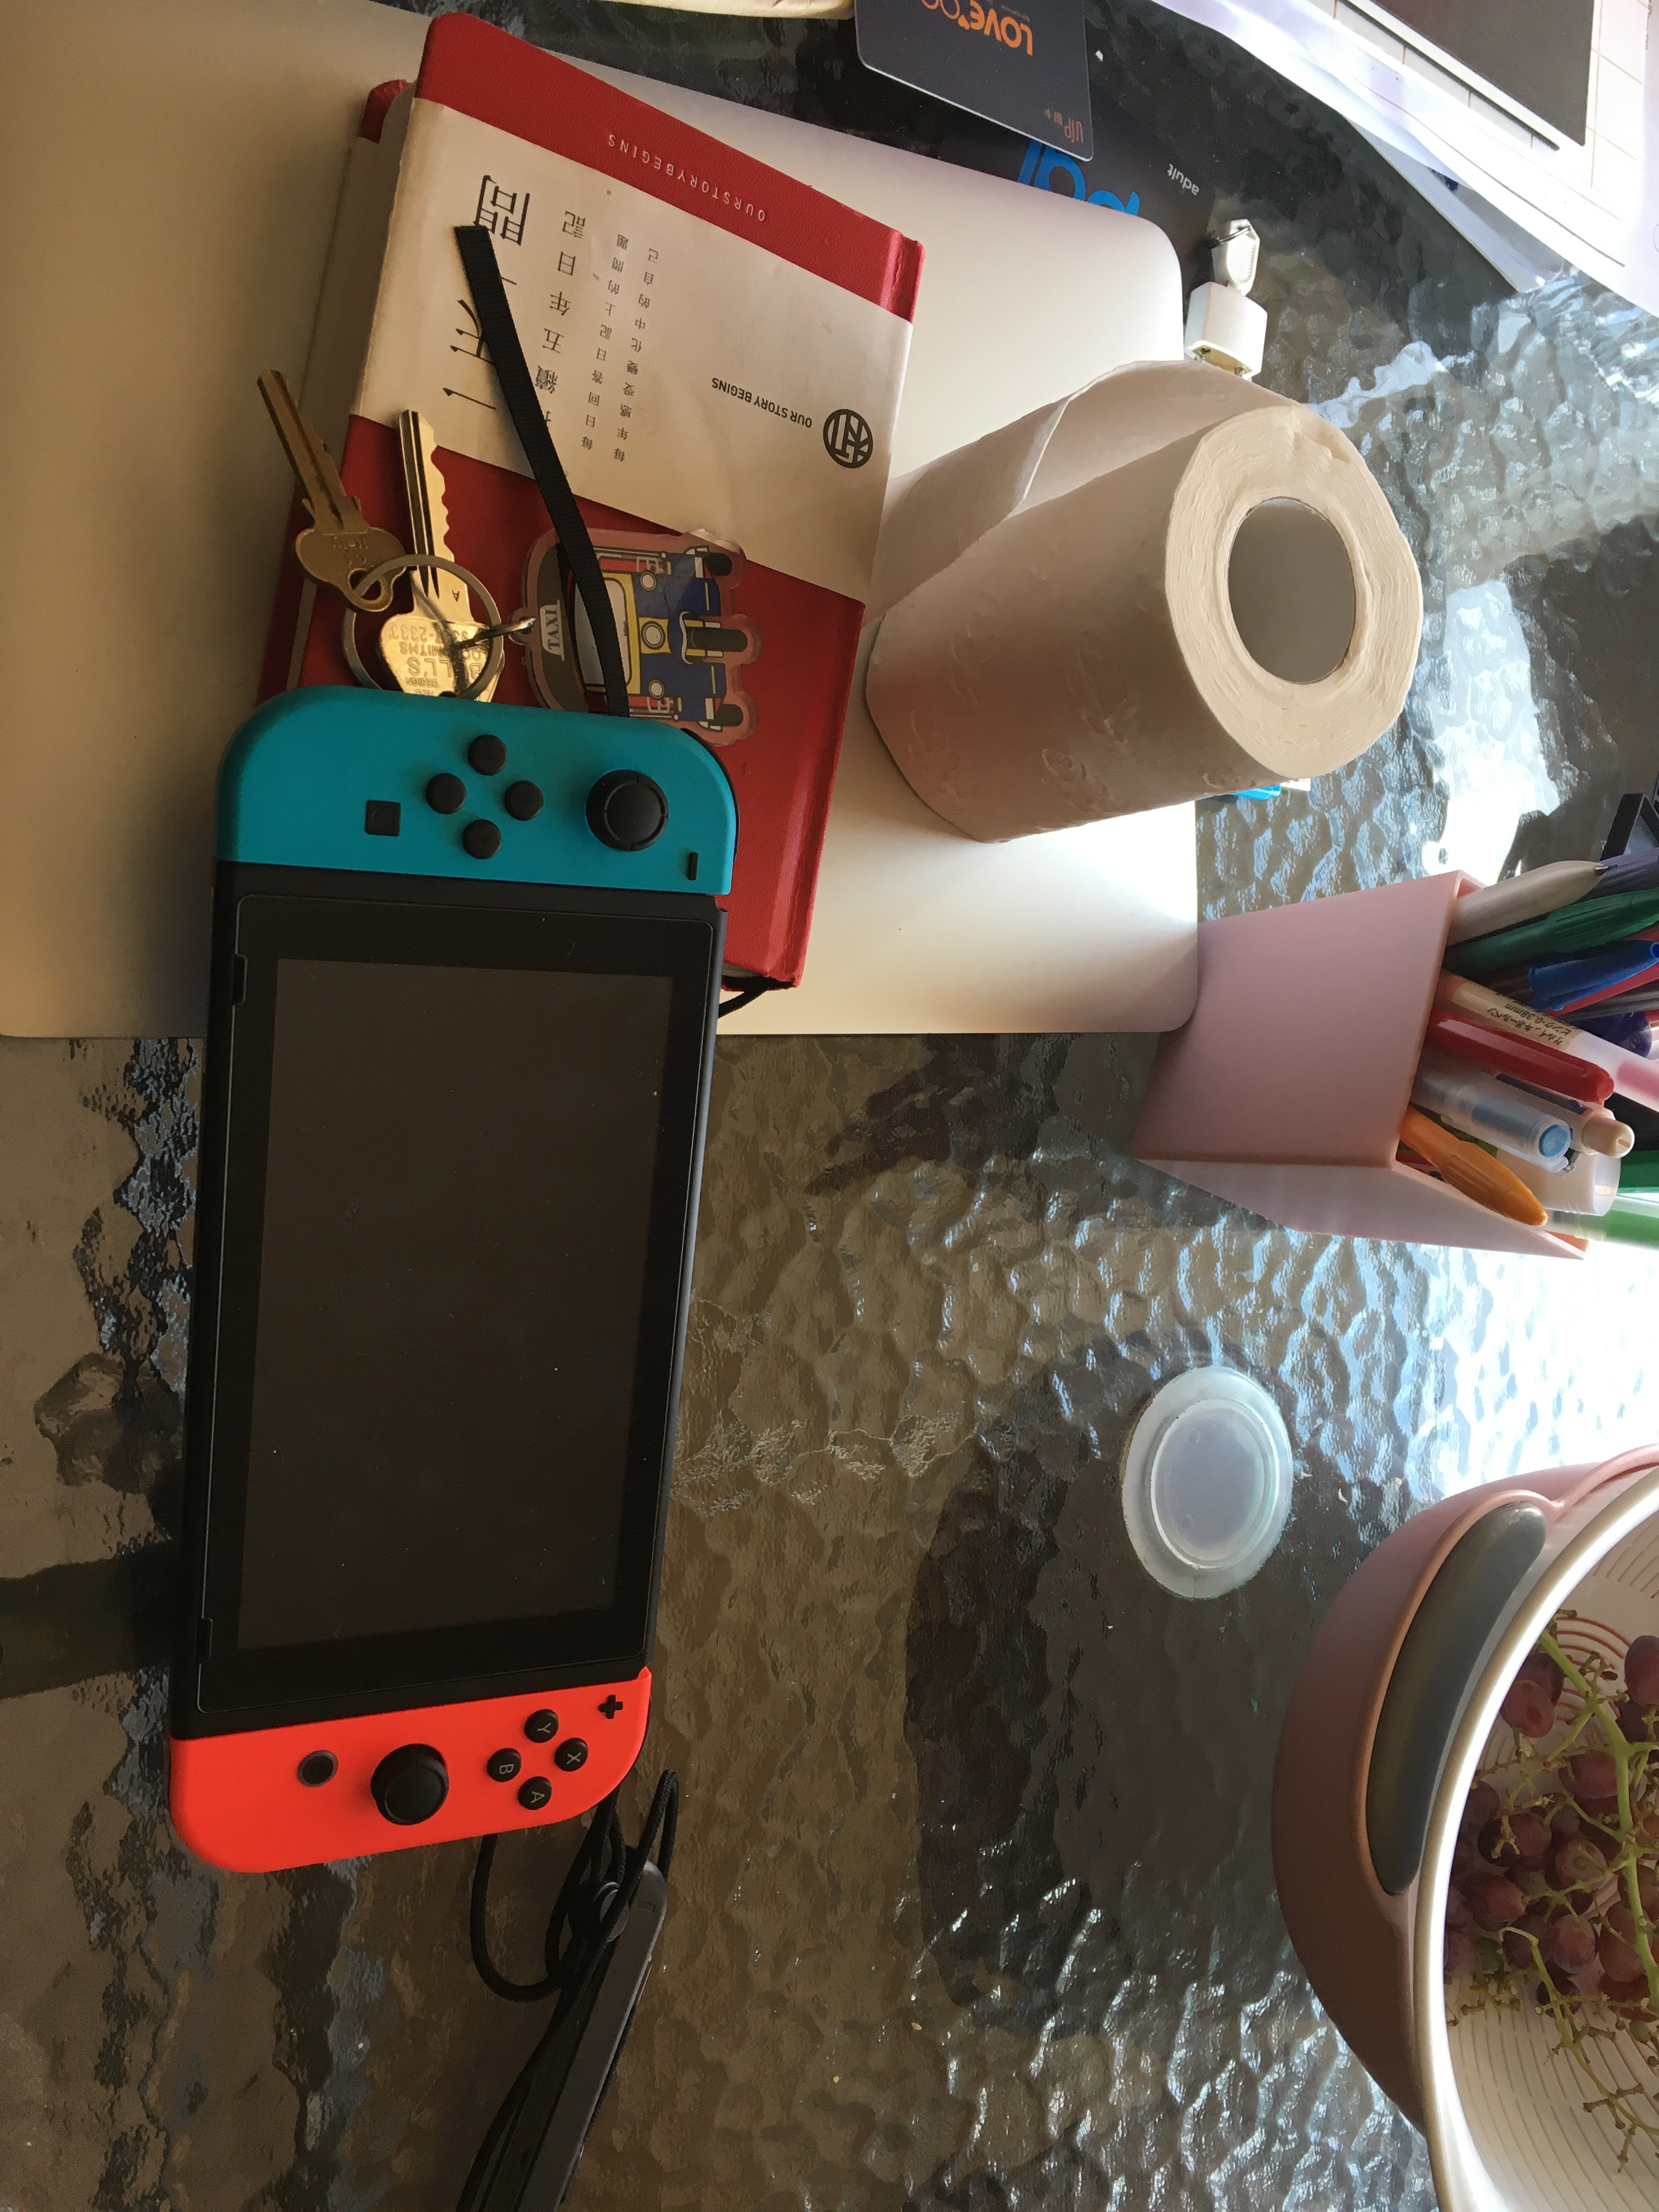NintendoSwitch: (143, 660, 739, 1881)
